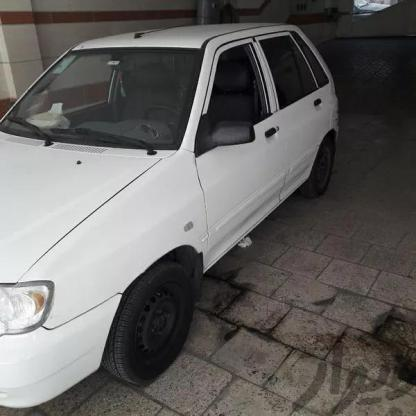Car: (0, 15, 354, 390)
